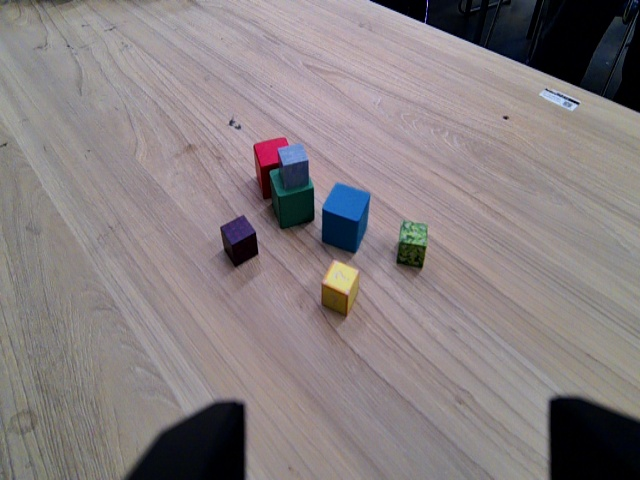brick: (219, 216, 260, 260)
grass: (396, 217, 430, 266)
lucky: (321, 259, 362, 314)
stone: (276, 143, 312, 190)
